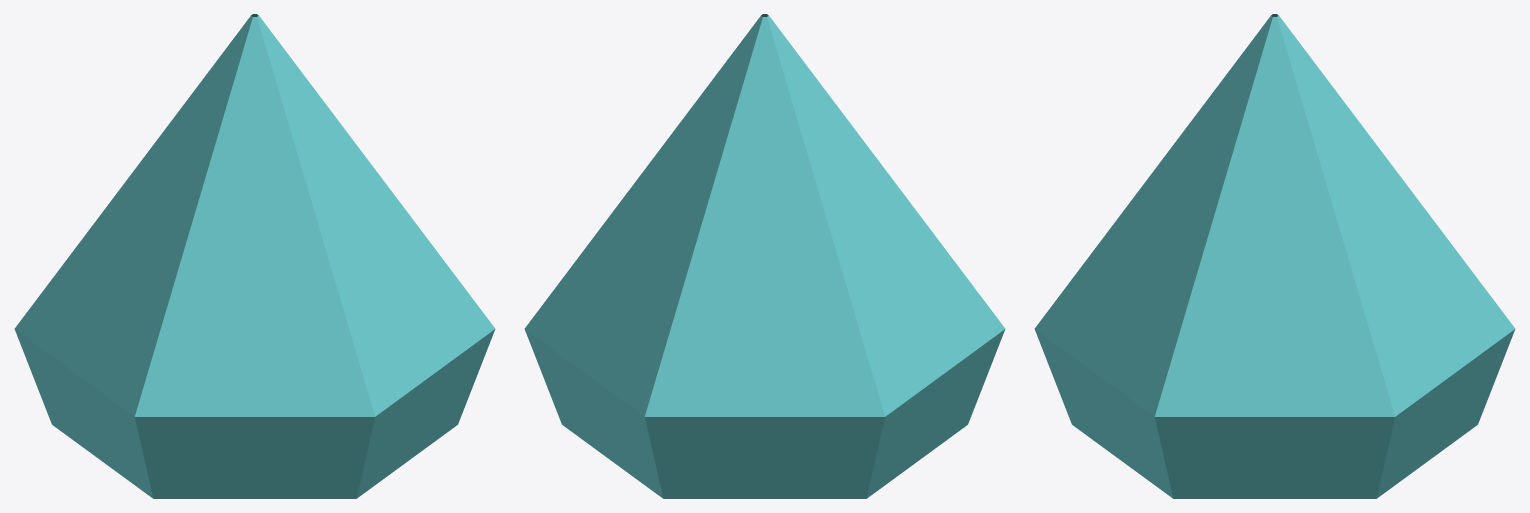
Rendered from MOD_LAM_Ceiling_lamp_01.fbx.
3 renders of one model, left to right at view 1: azimuth 30°, elevation 25°; view 2: azimuth 150°, elevation 25°; view 3: azimuth 270°, elevation 25°, orthographic.
Visible parts, largest first — view 1: HSHP_MOD_Ceiling_lamp_01; view 2: HSHP_MOD_Ceiling_lamp_01; view 3: HSHP_MOD_Ceiling_lamp_01.
Part boxes in pixels (bbox=[...]): HSHP_MOD_Ceiling_lamp_01: bbox=[14, 14, 495, 498]; HSHP_MOD_Ceiling_lamp_01: bbox=[524, 14, 1005, 498]; HSHP_MOD_Ceiling_lamp_01: bbox=[1034, 14, 1515, 498].
Bounding box in the file's own units: 0.2791 × 0.3025 × 0.3223.
